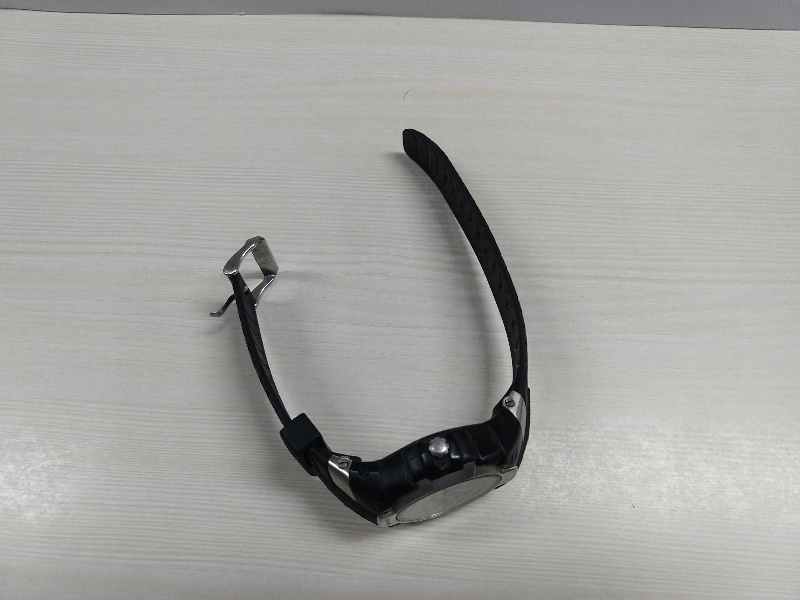watch: (206, 124, 568, 528)
